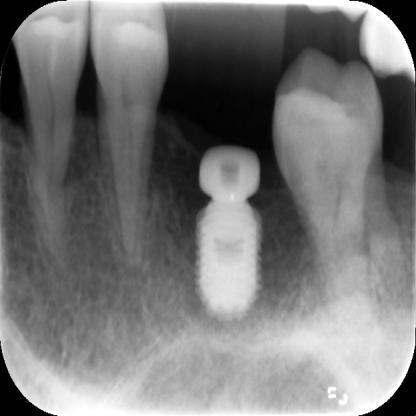Bicon: (189, 206, 268, 324)
